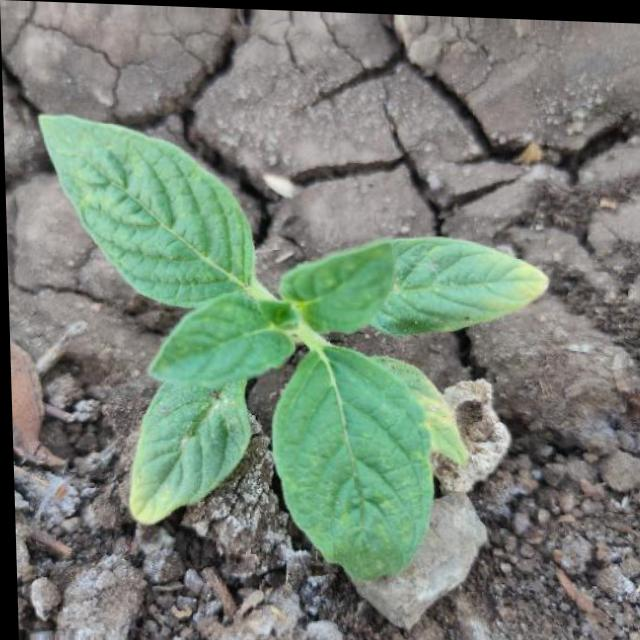crop: (28, 104, 559, 591)
